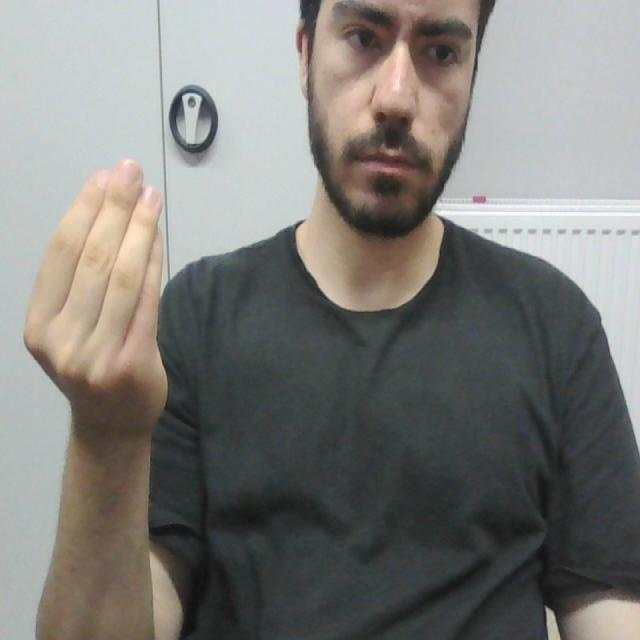iyi: (21, 154, 175, 408)
